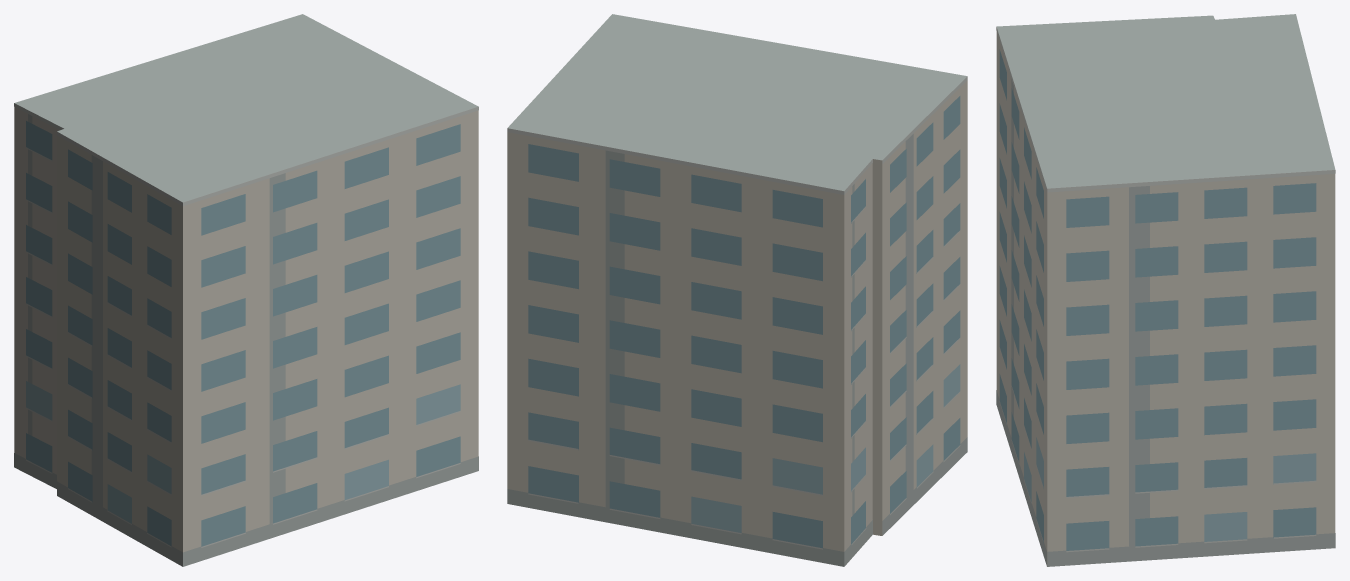
The model's file is survey-upis-32833916.glb.
3 views of the same model, side by side, from view 1: azimuth 30°, elevation 25°; view 2: azimuth 150°, elevation 25°; view 3: azimuth 270°, elevation 25° (orthographic). The views are drawn at different scales.
Visible parts, largest first — view 1: survey-upis-32833916.tmp; view 2: survey-upis-32833916.tmp; view 3: survey-upis-32833916.tmp.
Boxes of the visible parts, box(x1,y1,x2,y2) form: survey-upis-32833916.tmp: box(14, 14, 478, 566); survey-upis-32833916.tmp: box(507, 14, 967, 566); survey-upis-32833916.tmp: box(996, 14, 1335, 566).
Size of the model in its own units: 23.43 by 23.65 by 19.22.
